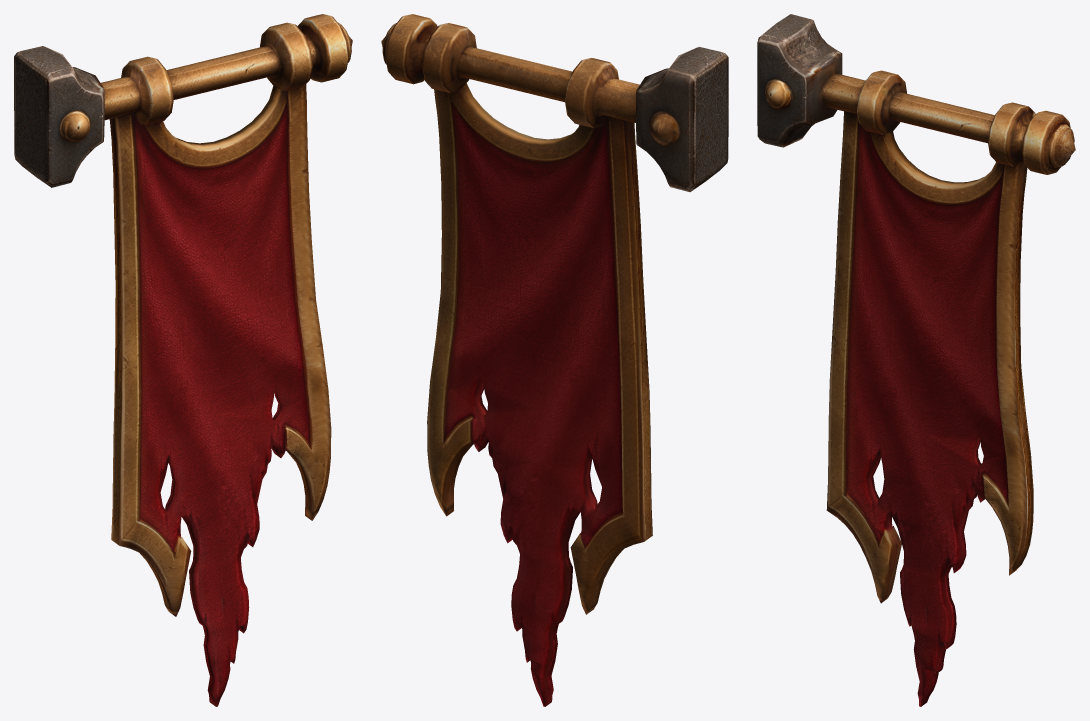
Rendered from medieval_banner_3d_model.fbx.
3 renders of one model, left to right at view 1: azimuth 30°, elevation 25°; view 2: azimuth 150°, elevation 25°; view 3: azimuth 330°, elevation 25°, orthographic. The views are drawn at different scales.
Visible parts, largest first — view 1: tripo_7841c67a_bb3b_4dfb_b9ae_ee3363f90600; view 2: tripo_7841c67a_bb3b_4dfb_b9ae_ee3363f90600; view 3: tripo_7841c67a_bb3b_4dfb_b9ae_ee3363f90600.
Boxes of the visible parts, <box> form: tripo_7841c67a_bb3b_4dfb_b9ae_ee3363f90600: <box>14,14,352,706</box>; tripo_7841c67a_bb3b_4dfb_b9ae_ee3363f90600: <box>381,14,728,706</box>; tripo_7841c67a_bb3b_4dfb_b9ae_ee3363f90600: <box>757,14,1075,706</box>.
Bounding box in the file's own units: 0.5005 × 0.9995 × 0.1372.
